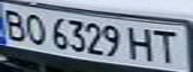2: (81, 20, 106, 56)
3: (66, 17, 87, 54)
6: (45, 16, 69, 51)
9: (103, 21, 127, 60)
B: (0, 6, 30, 42)
H: (127, 25, 160, 62)
O: (21, 11, 48, 46)
T: (151, 27, 187, 64)
